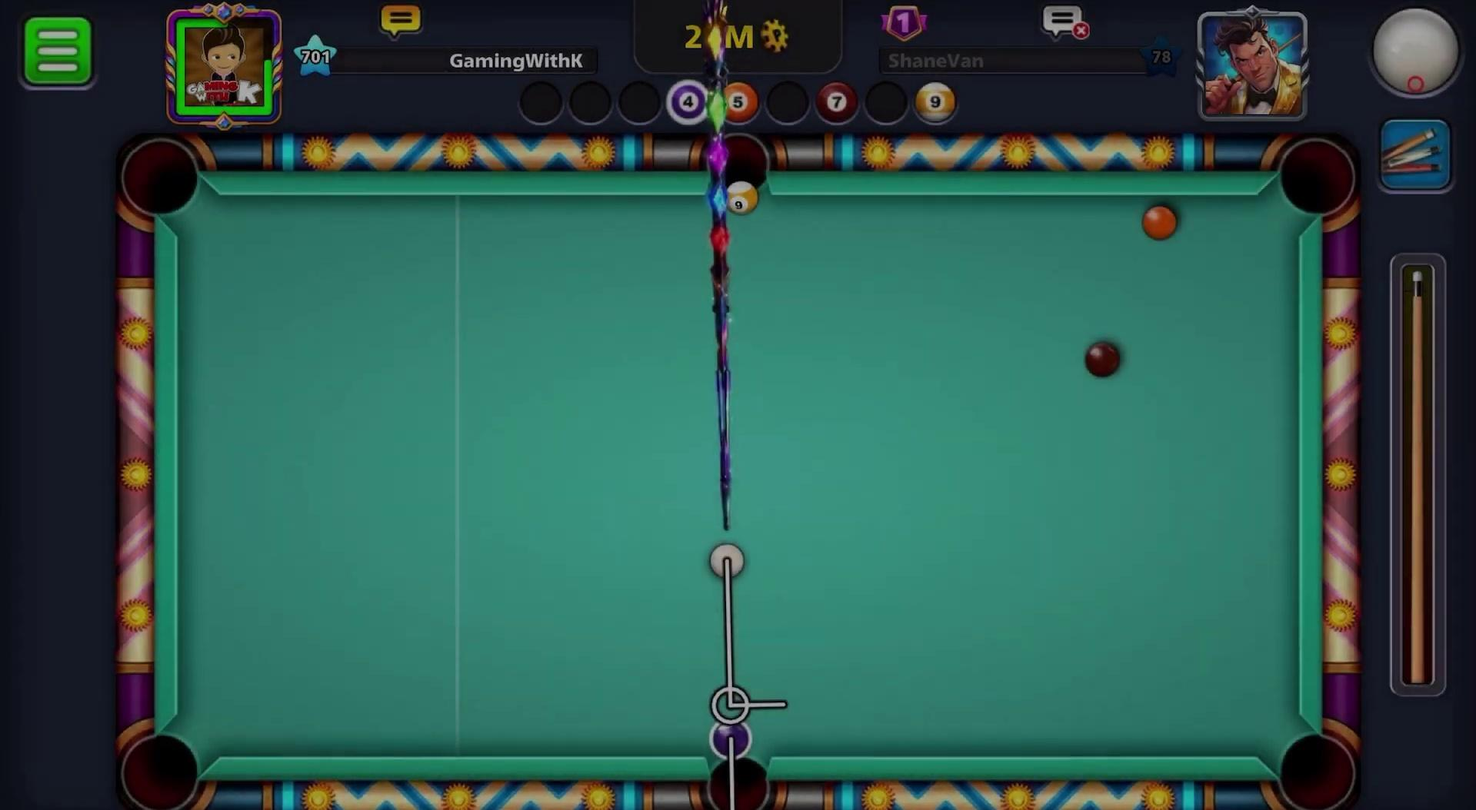Ball: (707, 714, 756, 762), (720, 171, 764, 222), (1079, 337, 1126, 383), (1138, 203, 1181, 245)
Force: (1388, 250, 1452, 696)
Guideline: (705, 554, 796, 809)
Hole: (106, 128, 215, 231), (1263, 716, 1365, 809), (111, 716, 212, 809), (1270, 131, 1363, 231), (699, 124, 788, 224)
Play_Area: (169, 194, 1301, 762)
Spin: (1339, 0, 1475, 119)
White: (702, 533, 753, 585)
